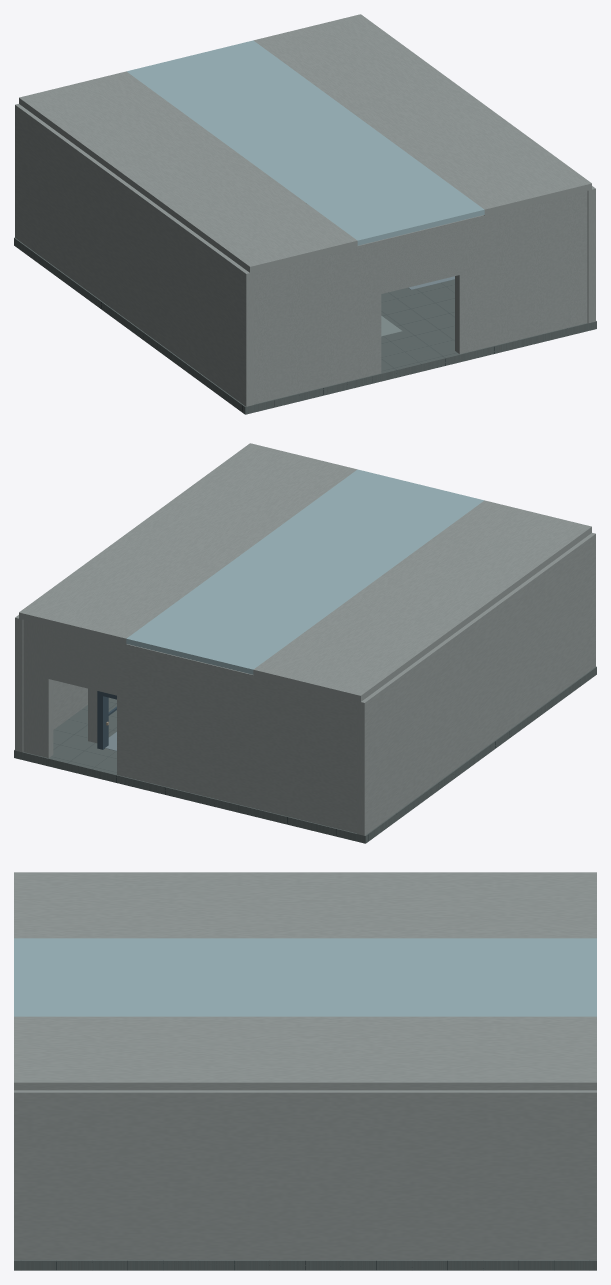
The model's file is stage.glb.
3 views of the same model, one above another, from view 1: azimuth 30°, elevation 25°; view 2: azimuth 150°, elevation 25°; view 3: azimuth 270°, elevation 25° (orthographic). The views are drawn at different scales.
Visible parts, largest first — view 1: wall_left, roof_center, roof_left, roof_right, entrance_wall_4.3, entrance_wall_-4.3, floor, entrance_lintel, wall_right; view 2: wall_left, rear_wall_left, roof_center, roof_left, roof_right, floor, rear_wall_right, exit_lintel, wall_right, gate_frame_4.6, column_5.1_-5; view 3: wall_right, roof_center, roof_right, roof_left, floor.
Part boxes in pixels (bbox=[...]): wall_left: bbox=[15, 104, 253, 406]; roof_center: bbox=[127, 40, 484, 245]; roof_left: bbox=[19, 71, 357, 272]; roof_right: bbox=[254, 14, 591, 215]; entrance_wall_4.3: bbox=[455, 190, 587, 354]; entrance_wall_-4.3: bbox=[254, 240, 381, 404]; floor: bbox=[14, 237, 596, 414]; entrance_lintel: bbox=[381, 221, 459, 293]; wall_right: bbox=[587, 186, 595, 323]; wall_left: bbox=[357, 533, 595, 835]; rear_wall_left: bbox=[117, 642, 356, 833]; roof_center: bbox=[126, 469, 483, 674]; roof_left: bbox=[253, 500, 591, 701]; roof_right: bbox=[19, 443, 356, 644]; floor: bbox=[14, 666, 596, 843]; rear_wall_right: bbox=[23, 619, 53, 758]; exit_lintel: bbox=[48, 626, 116, 695]; wall_right: bbox=[15, 615, 87, 752]; gate_frame_4.6: bbox=[97, 695, 108, 749]; column_5.1_-5: bbox=[88, 688, 97, 743]; wall_right: bbox=[14, 1090, 596, 1260]; roof_center: bbox=[14, 938, 596, 1016]; roof_right: bbox=[14, 1016, 596, 1090]; roof_left: bbox=[14, 872, 596, 938]; floor: bbox=[14, 1260, 596, 1270].
Size of the model in its own units: 14.4 by 5.74 by 16.4.
Materials: 15 (5 with a texture image).
